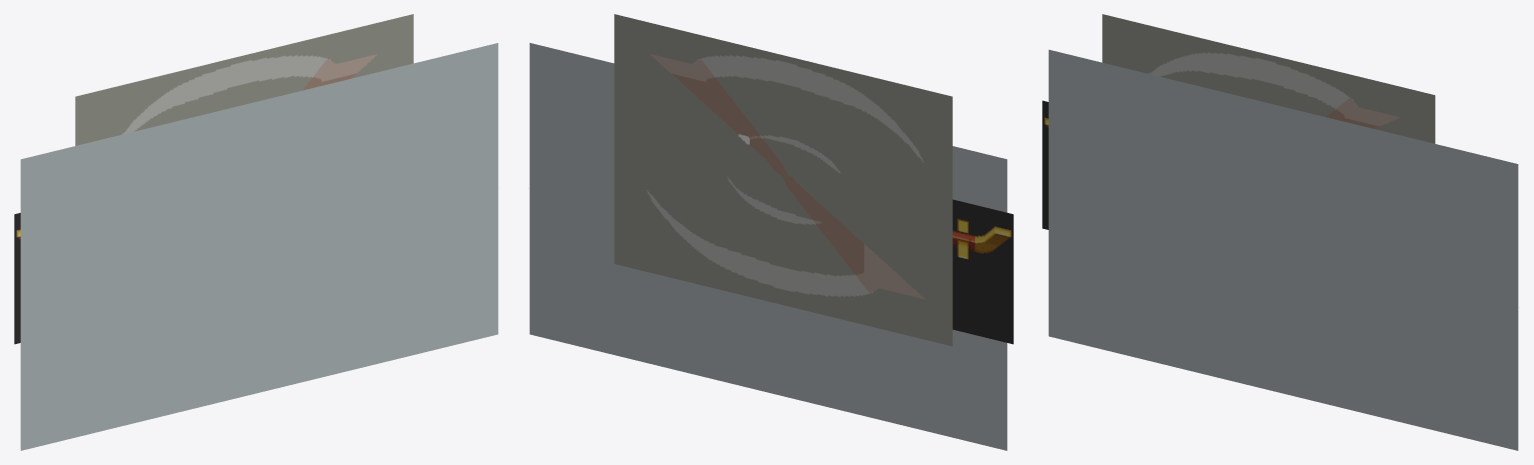
The model's file is Escape_Helicopter.glb.
3 renders of one model, left to right at view 1: azimuth 30°, elevation 25°; view 2: azimuth 150°, elevation 25°; view 3: azimuth 330°, elevation 25°, orthographic.
Parts seen in each view (by area): view 1: pPlane7, pPlane1, pPlane6; view 2: pPlane1, pPlane7, pPlane6; view 3: pPlane7, pPlane1, pPlane6.
Boxes of the visible parts, bbox=[...] form: pPlane7: bbox=[20, 43, 498, 450]; pPlane1: bbox=[75, 14, 413, 145]; pPlane6: bbox=[14, 213, 20, 344]; pPlane1: bbox=[614, 14, 952, 346]; pPlane7: bbox=[529, 43, 1007, 450]; pPlane6: bbox=[952, 199, 1013, 344]; pPlane7: bbox=[1048, 49, 1518, 450]; pPlane1: bbox=[1102, 14, 1435, 143]; pPlane6: bbox=[1042, 100, 1048, 229].
Size of the model in its own units: 12.19 by 8.19 by 0.002.
Materials: 3 (3 with a texture image).
